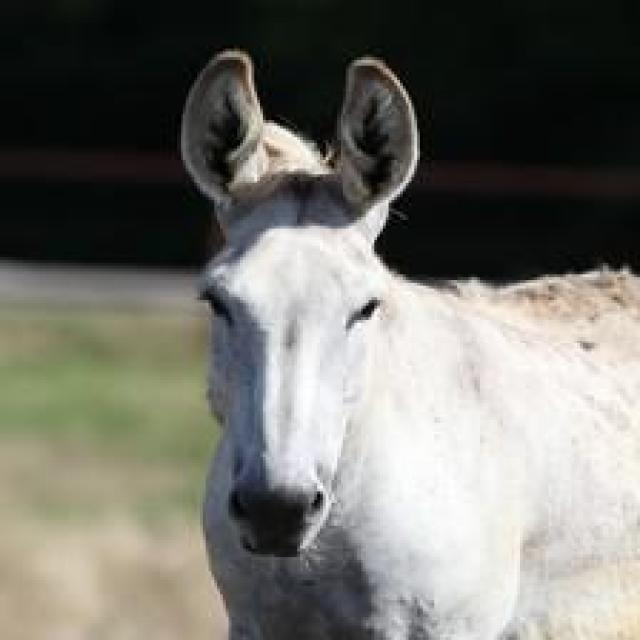Donkey: (177, 46, 637, 637)
